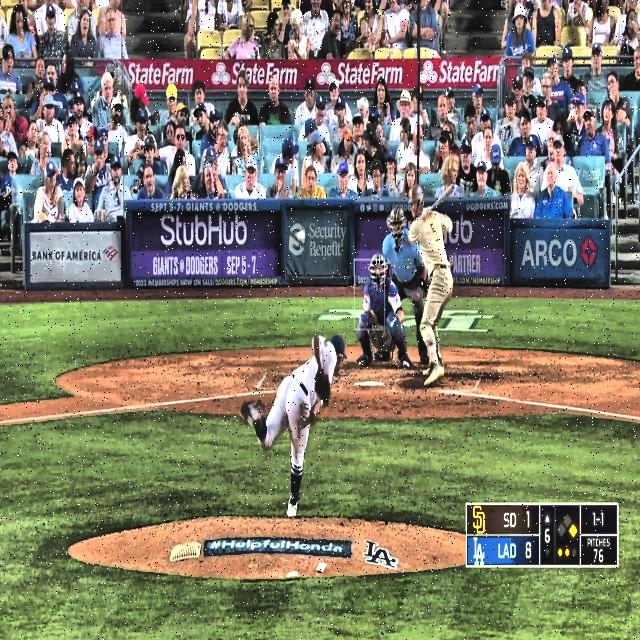baseball: (297, 230, 305, 241)
